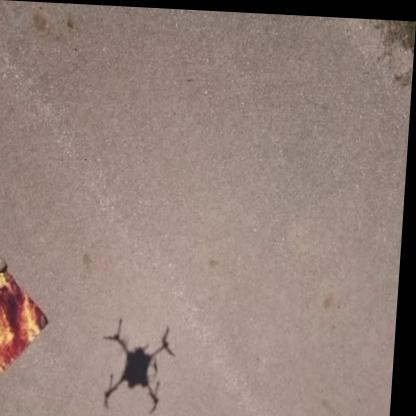fire-poster: (0, 257, 57, 394)
